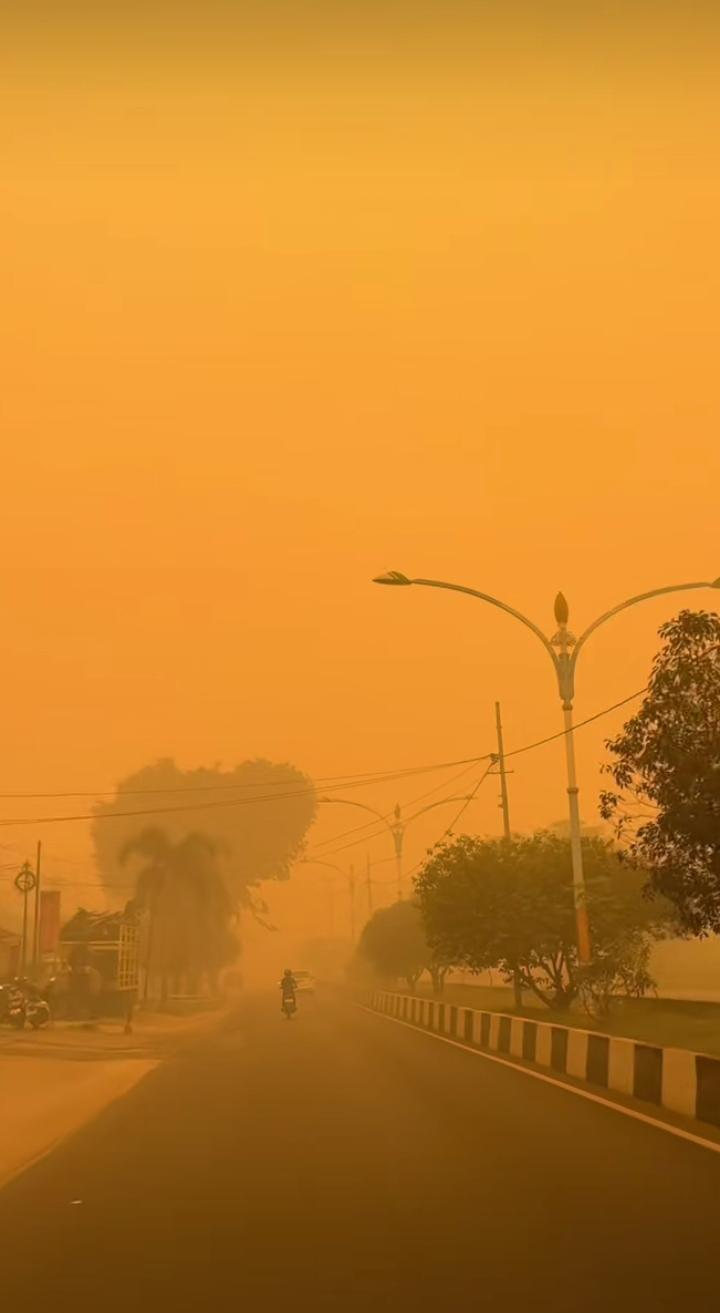Deteksi-Objek-Citra-Berasap: (0, 0, 720, 1022)
Gedung: (57, 908, 146, 1021)
Kendaraan: (0, 978, 51, 1030), (279, 984, 299, 1020), (293, 970, 315, 996)
Manusia: (280, 968, 298, 1002)
Vegetasi: (90, 754, 320, 1009), (411, 825, 655, 1017), (598, 609, 720, 948), (353, 900, 430, 996)
